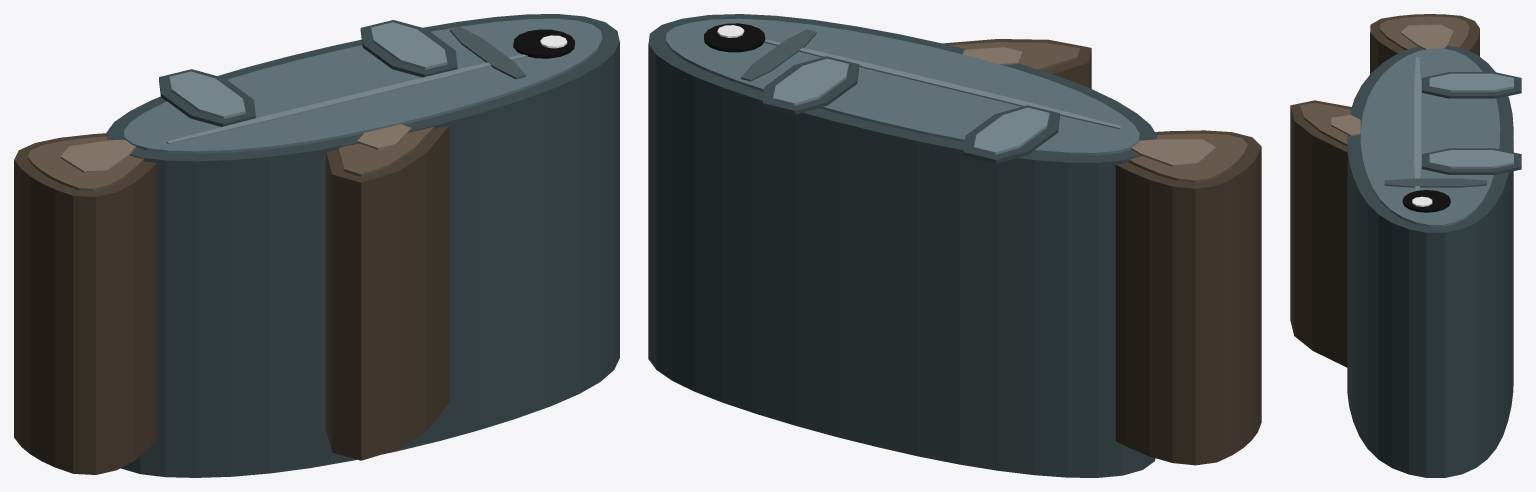
The model's file is bag_peixe.fbx.
3 views of the same model, side by side, from view 1: azimuth 30°, elevation 25°; view 2: azimuth 150°, elevation 25°; view 3: azimuth 270°, elevation 25° (orthographic). The views are drawn at different scales.
Parts seen in each view (by area): view 1: bag_peixe_mochila; view 2: bag_peixe_mochila; view 3: bag_peixe_mochila.
Part boxes in pixels (bbox=[...]): bag_peixe_mochila: bbox=[14, 14, 619, 477]; bag_peixe_mochila: bbox=[648, 14, 1261, 477]; bag_peixe_mochila: bbox=[1290, 14, 1521, 477].
Size of the model in its own units: 3.48 by 1.85 by 1.54.
1 material, 1 textured.
